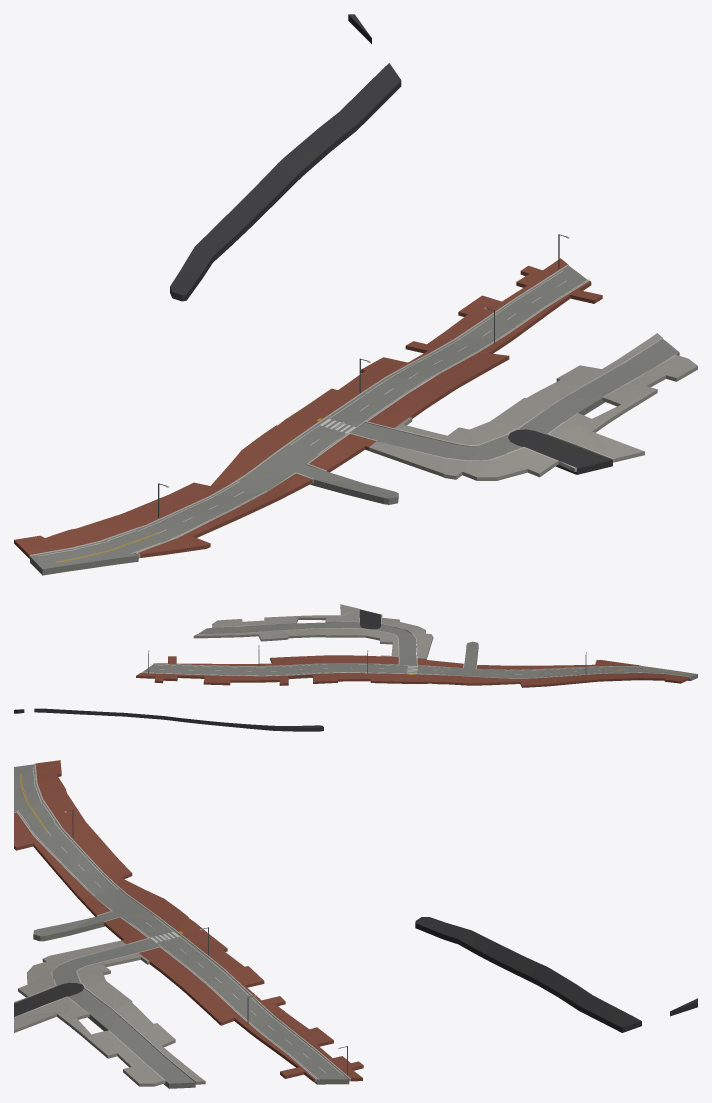
File: 18-218880-118916.31677cfc.glb
The picture shows the model from 3 angles, top to bottom: view 1: azimuth 30°, elevation 25°; view 2: azimuth 150°, elevation 25°; view 3: azimuth 270°, elevation 25°; orthographic projection. The views are drawn at different scales.
Bounding box in the file's own units: 147 × 20.69 × 146.
